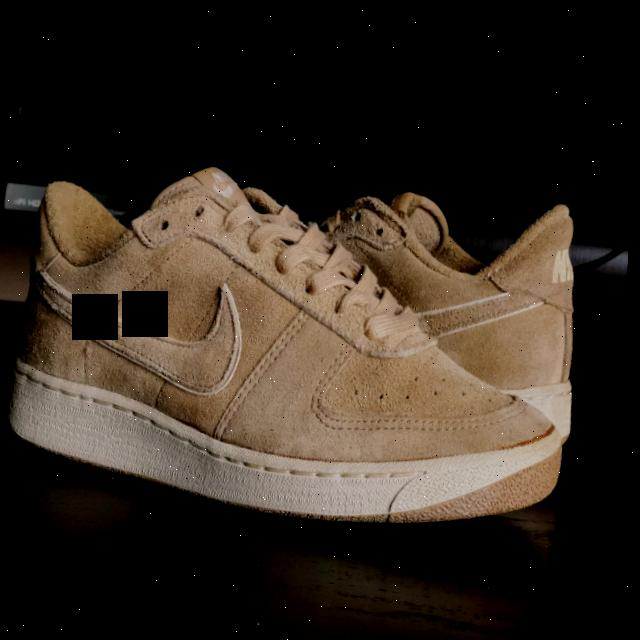shoes: (0, 149, 582, 572), (310, 175, 633, 410)
